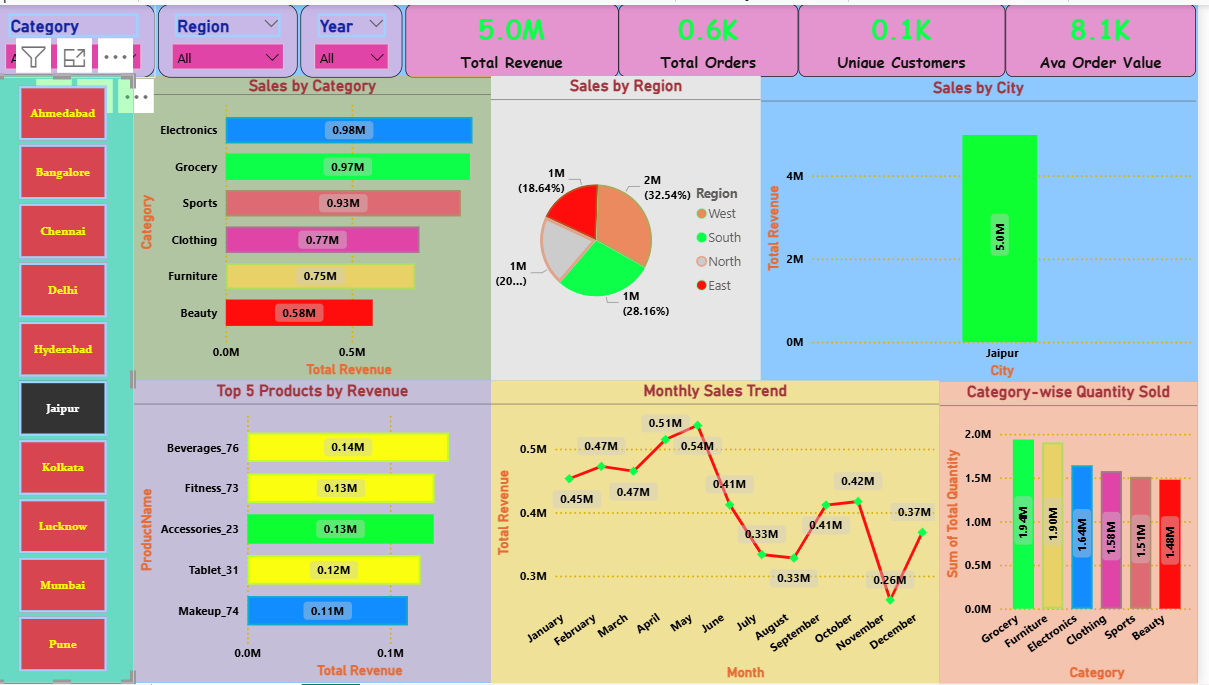

The page's visual inventory and layout, read from the dashboard file:
{"tool":"powerbi","page":{"name":"Dashboard","canvas":[1280,720],"ordinal":0},"visuals":[{"type":"card","fields":{"Values":["Orders.Total Revenue"]},"box":[440.6,0,225.9,77.9],"z":0},{"type":"card","fields":{"Values":["Orders.Total Orders"]},"box":[667.1,0,190.9,77.5],"z":1000},{"type":"card","fields":{"Values":["Orders.Unique Customers"]},"box":[858,0,219.2,77.5],"z":2000},{"type":"card","fields":{"Values":["Orders.Avg Order Value"]},"box":[1077.2,0,202.2,77.5],"z":3000},{"type":"clusteredBarChart","title":"Sales by Category","fields":{"Y":["Orders.Total Revenue"],"Category":["Products.Category"]},"box":[152.7,76.3,378.6,322.9],"z":4000},{"type":"pieChart","title":"Sales by Region","fields":{"Category":["Customers.Region"],"Y":["Orders.Total Revenue"]},"box":[531.3,76.3,286.3,322.9],"z":5000},{"type":"lineChart","title":"Monthly Sales Trend","fields":{"Y":["Orders.Total Revenue"],"Category":["Orders.OrderDate.Variation.Date Hierarchy.Month"]},"box":[531.3,399.2,475.6,321.3],"z":6000},{"type":"barChart","title":"Top 5 Products by Revenue","fields":{"Category":["Products.ProductName"],"Y":["Orders.Total Revenue"]},"box":[152.7,399.2,378.6,319.7],"z":7000},{"type":"columnChart","title":"Sales by City","fields":{"Category":["Customers.City"],"Y":["Orders.Total Revenue"]},"box":[817.6,77.9,461.3,322.9],"z":8000},{"type":"columnChart","title":"Category-wise Quantity Sold","fields":{"Category":["Products.Category"],"Y":["Sum(Orders.Total Quantity)"]},"box":[1006.9,400.8,273.6,319.7],"z":9000},{"type":"slicer","fields":{"Values":["Orders.OrderDate.Variation.Date Hierarchy.Year"]},"box":[329.3,0,108.2,77.9],"z":10000},{"type":"slicer","fields":{"Values":["Customers.Region"]},"box":[178.1,0,147.9,77.9],"z":11000},{"type":"slicer","fields":{"Values":["Products.Category"]},"box":[1.6,0,173.4,77.9],"z":12000},{"type":"slicer","fields":{"Values":["Customers.City"]},"box":[0,74.8,152.7,645.8],"z":13000}]}

Visuals, with their boxes on the page's 1280x720 design canvas (x1, y1, x2, y2). These are canvas units, not pixel positions in the 1209x685 screenshot, which may show the page scaled, cropped or inside an application window:
card - Orders.Total Revenue: box(441, 0, 666, 78)
card - Orders.Total Orders: box(667, 0, 858, 78)
card - Orders.Unique Customers: box(858, 0, 1077, 78)
card - Orders.Avg Order Value: box(1077, 0, 1279, 78)
"Sales by Category" clusteredBarChart: box(153, 76, 531, 399)
"Sales by Region" pieChart: box(531, 76, 818, 399)
"Monthly Sales Trend" lineChart: box(531, 399, 1007, 720)
"Top 5 Products by Revenue" barChart: box(153, 399, 531, 719)
"Sales by City" columnChart: box(818, 78, 1279, 401)
"Category-wise Quantity Sold" columnChart: box(1007, 401, 1280, 720)
slicer - Orders.OrderDate.Variation.Date Hierarchy.Year: box(329, 0, 438, 78)
slicer - Customers.Region: box(178, 0, 326, 78)
slicer - Products.Category: box(2, 0, 175, 78)
slicer - Customers.City: box(0, 75, 153, 721)
